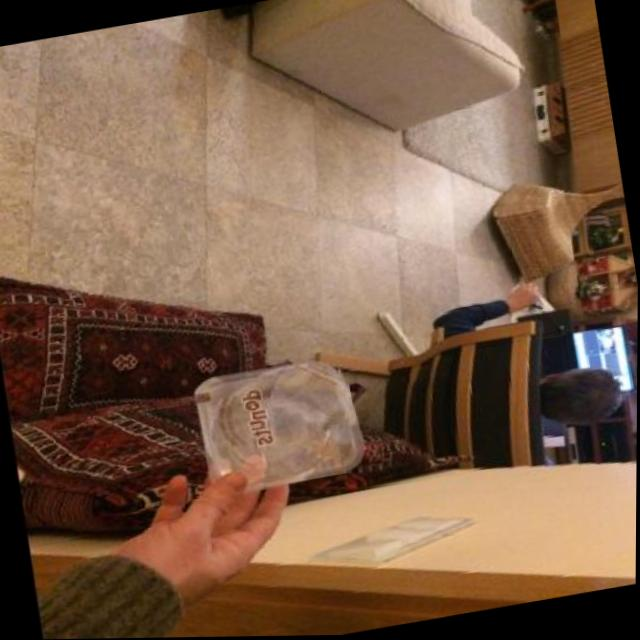plastic: (187, 352, 368, 501)
